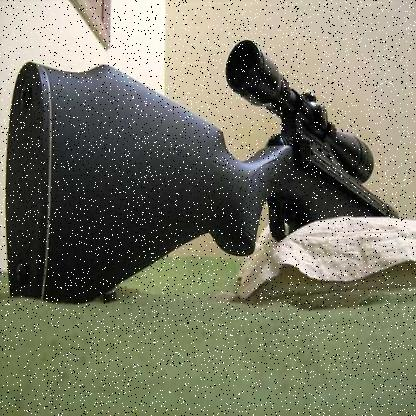rifle: (10, 23, 403, 306)
